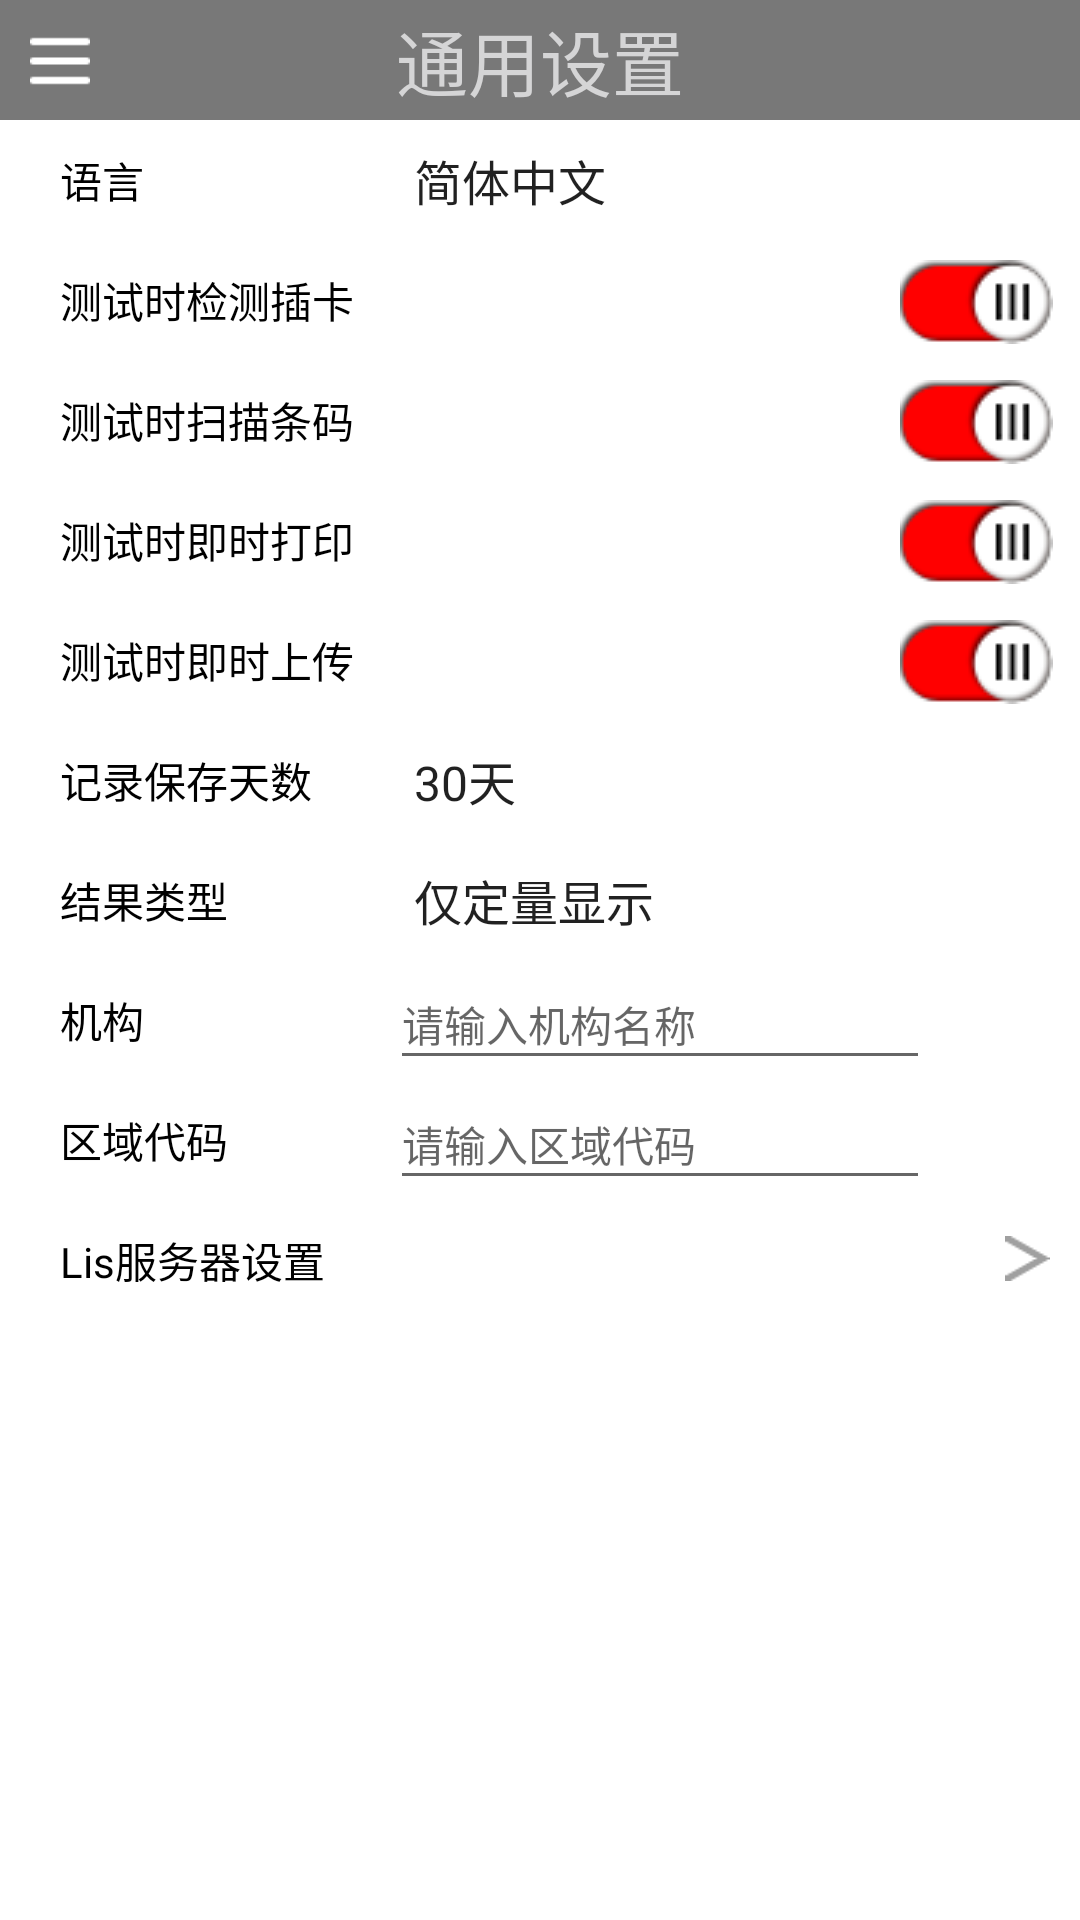

Where to tap for icons on this 1080*1920 app screen, as (x=x, y=y):
get into: (x=1027, y=1258)
menu: (x=60, y=61)
